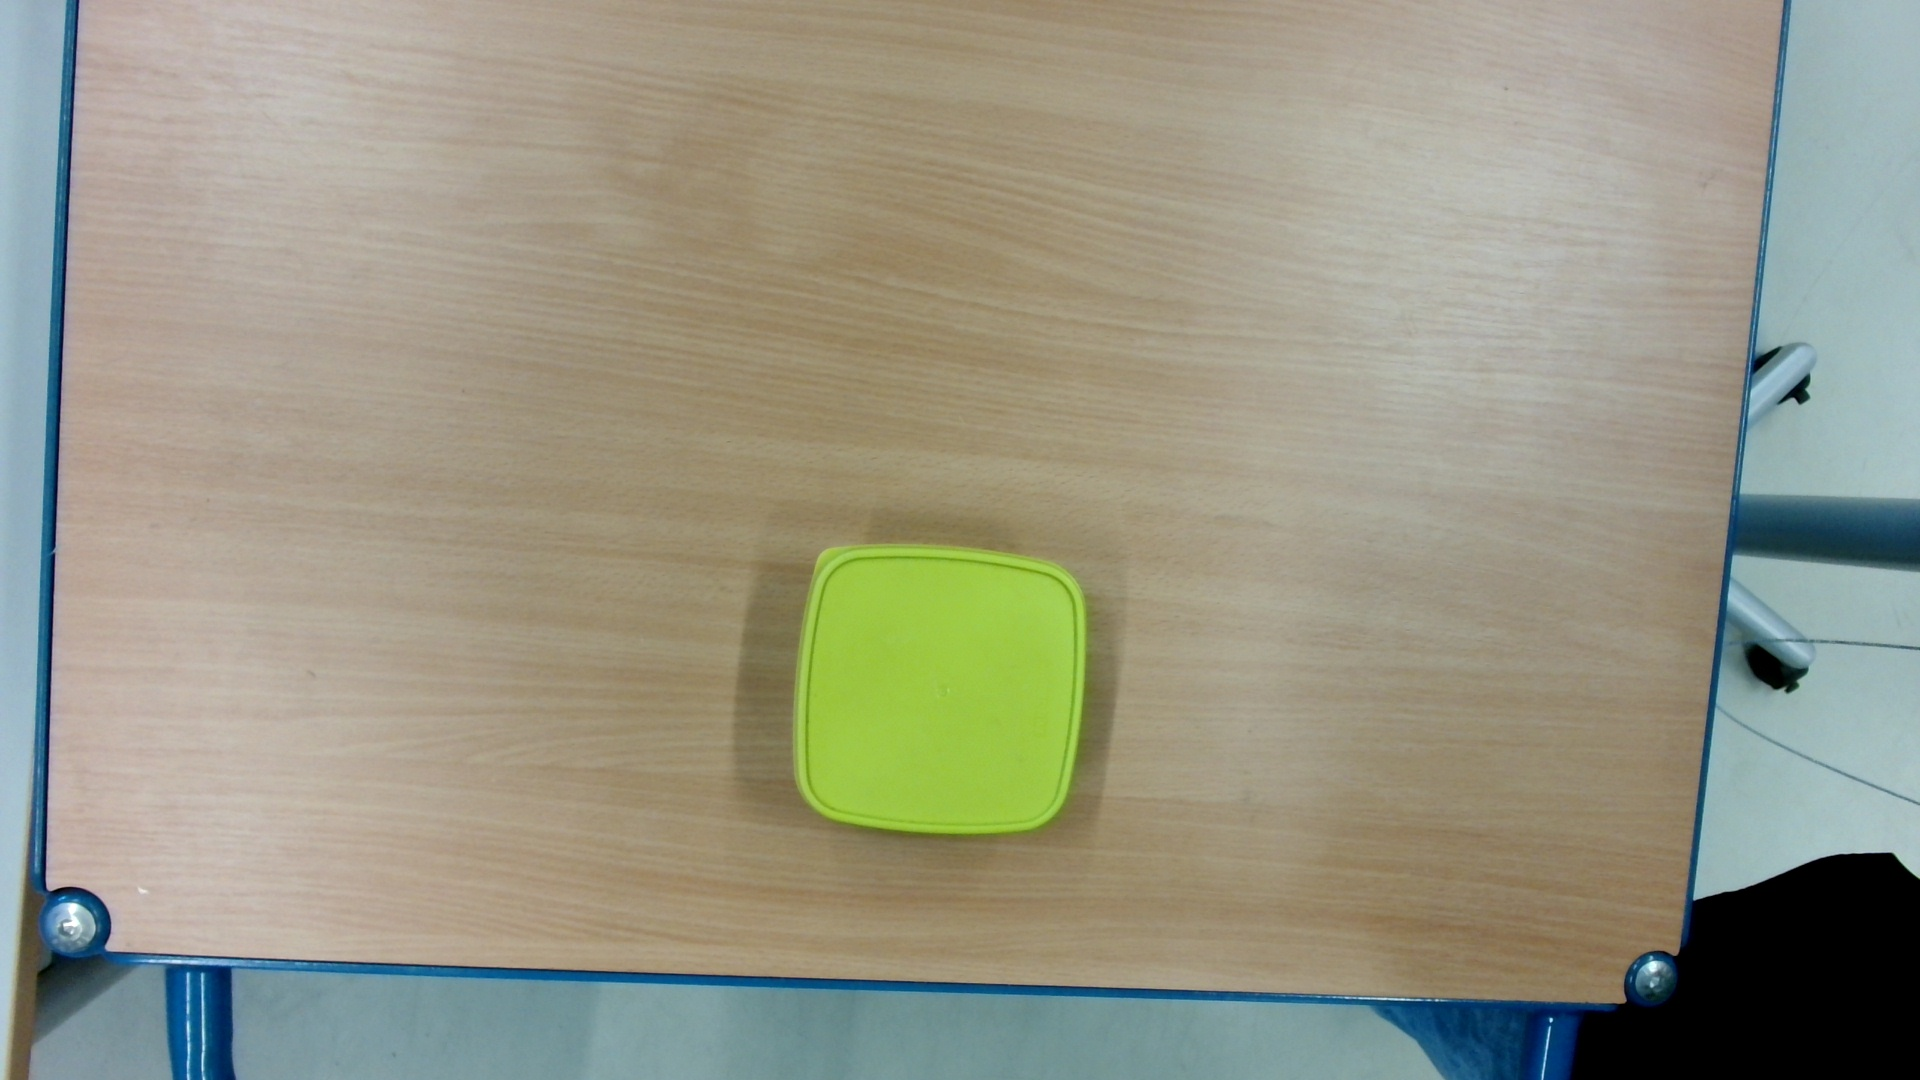Box: (786, 531, 1096, 852)
